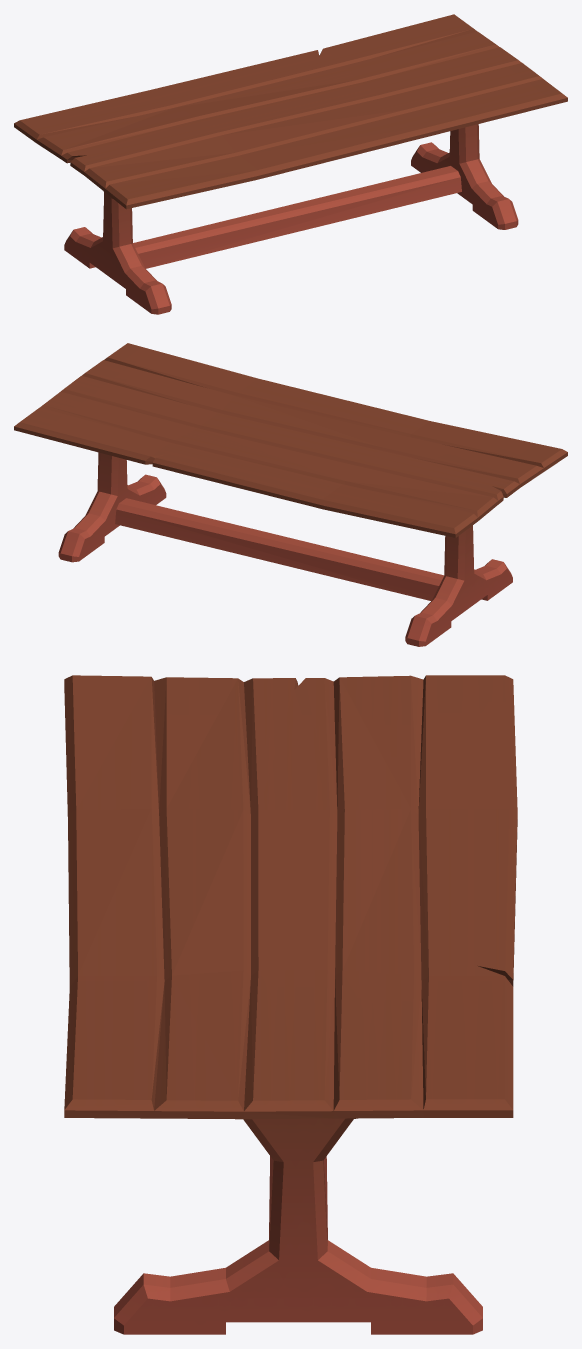
The model's file is woodentable2.glb.
3 views of the same model, one above another, from view 1: azimuth 30°, elevation 25°; view 2: azimuth 150°, elevation 25°; view 3: azimuth 270°, elevation 25° (orthographic). The views are drawn at different scales.
Parts seen in each view (by area): view 1: WoodenTable2; view 2: WoodenTable2; view 3: WoodenTable2.
Part boxes in pixels (box(x1,y1,x2,y2)): WoodenTable2: box(14, 14, 567, 314); WoodenTable2: box(14, 343, 567, 646); WoodenTable2: box(64, 675, 517, 1334).
Size of the model in its own units: 2.51 by 0.7186 by 1.11.
1 material, 1 textured.
